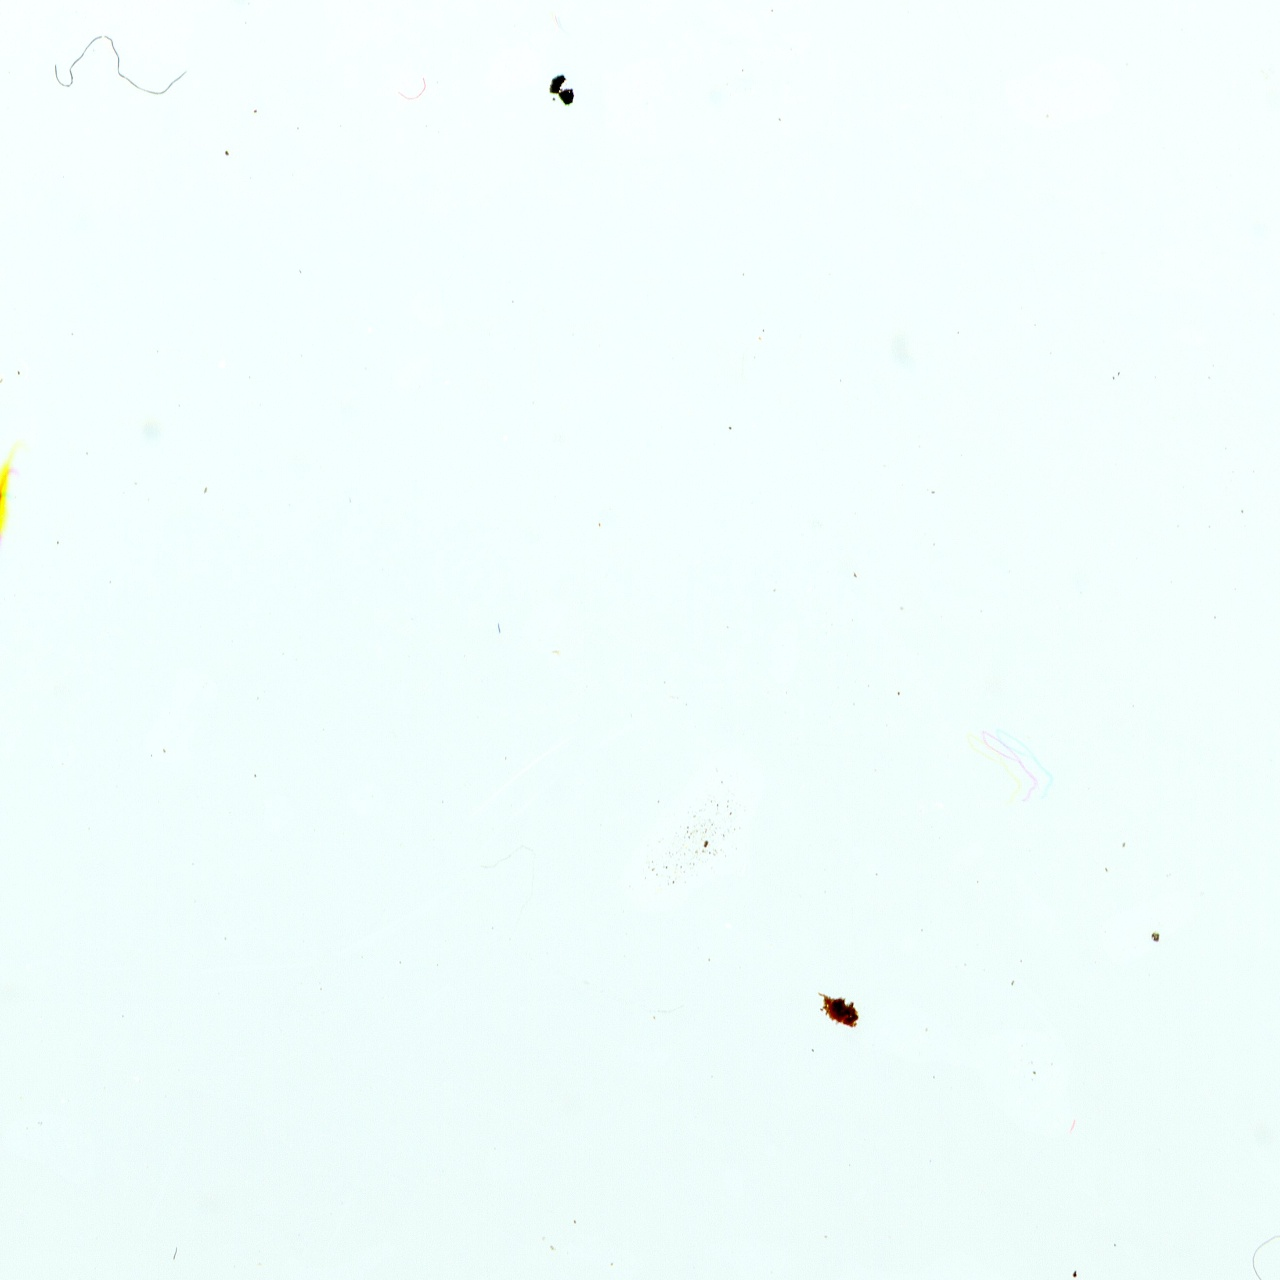arthropod: (0, 423, 44, 609)
